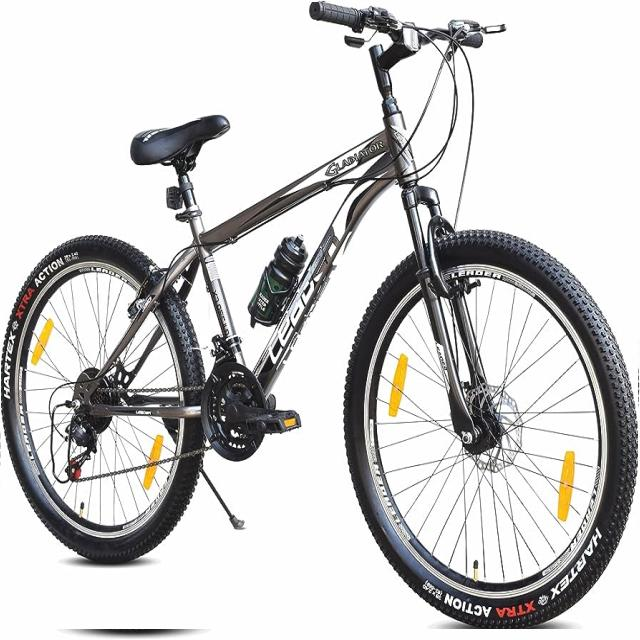bicycle: (1, 3, 638, 629)
